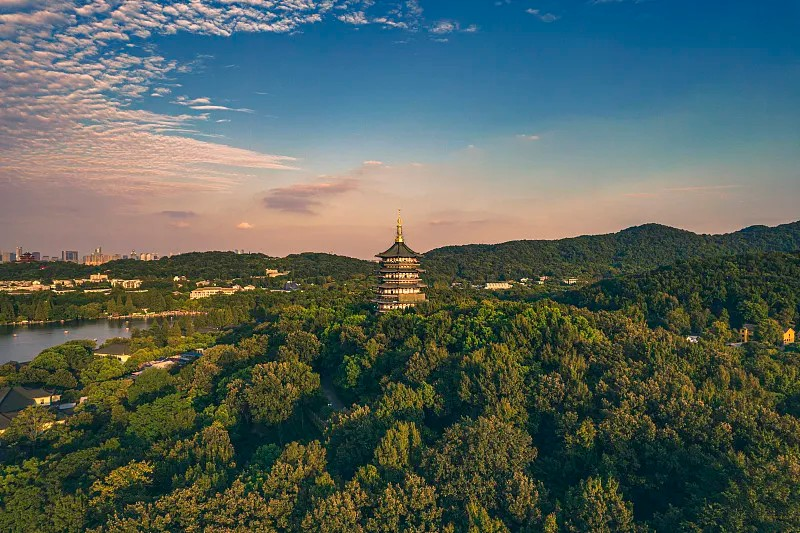Leifeng: (372, 206, 433, 317)
